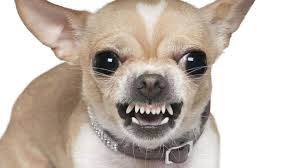Chihuahua: (16, 1, 261, 168)
